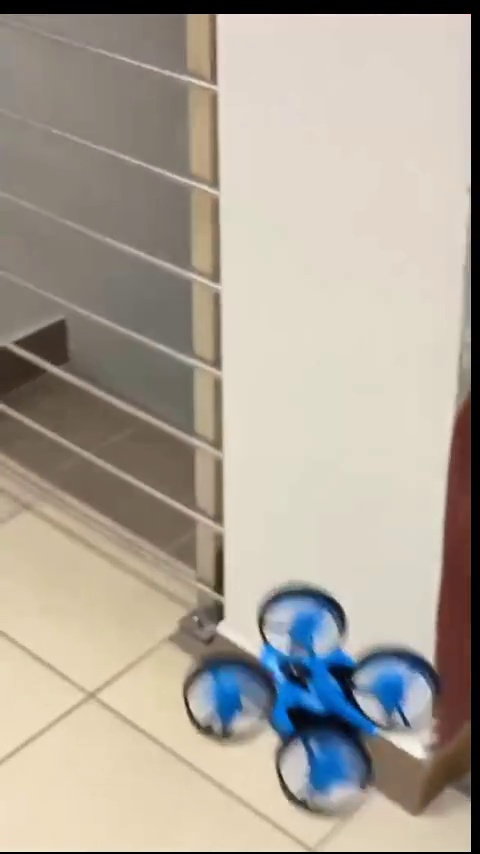drone: (195, 590, 444, 814)
